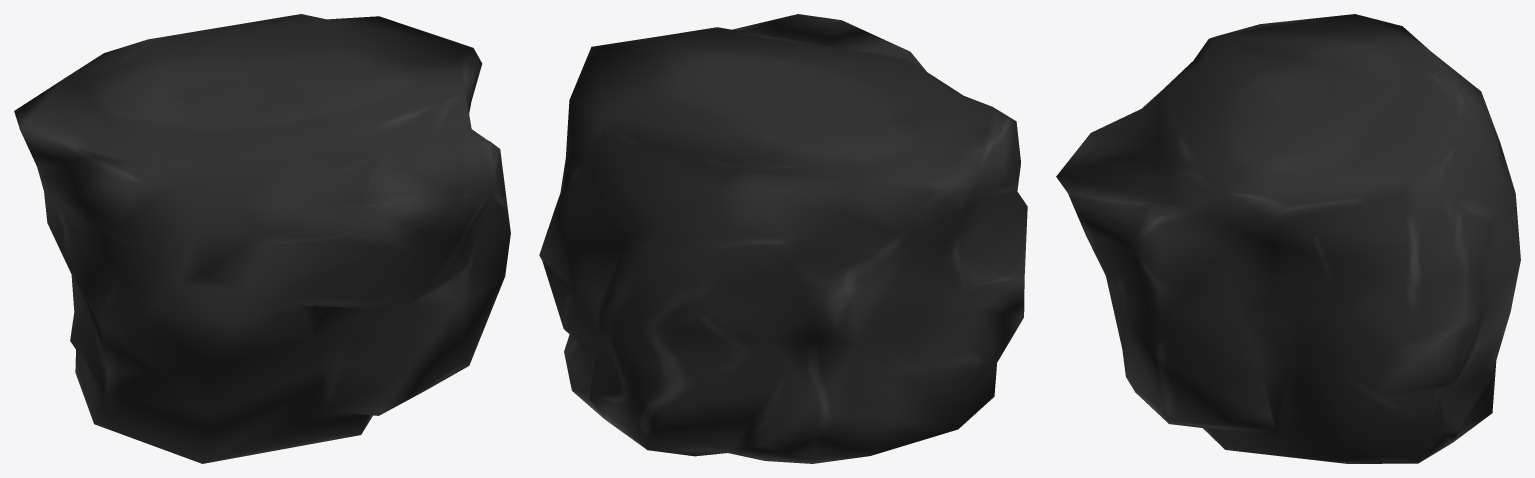
File: NPC_A_5.glb
The picture shows the model from 3 angles, left to right: view 1: azimuth 30°, elevation 25°; view 2: azimuth 150°, elevation 25°; view 3: azimuth 270°, elevation 25°; orthographic projection. The views are drawn at different scales.
Visible parts, largest first — view 1: Rock_B.148; view 2: Rock_B.148; view 3: Rock_B.148.
Part boxes in pixels (left/top/right/bottom): Rock_B.148: left=14, top=14, right=510, bottom=463; Rock_B.148: left=539, top=14, right=1027, bottom=463; Rock_B.148: left=1056, top=14, right=1520, bottom=463.
Bounding box in the file's own units: 1.31 × 0.8681 × 1.29.
1 material, 1 textured.
